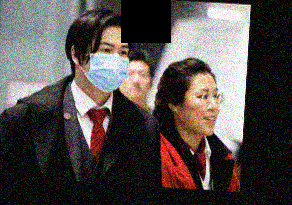with_mask: (83, 41, 130, 93)
without_mask: (180, 84, 222, 136), (121, 59, 152, 100)
